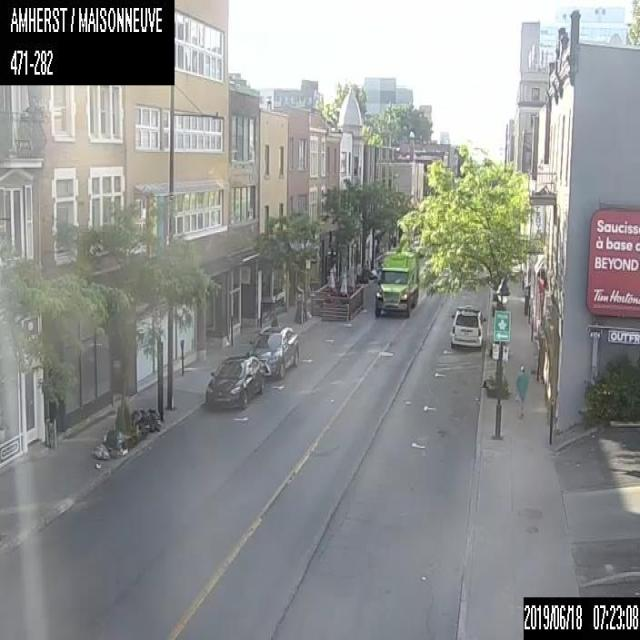pedestrian: (514, 359, 528, 417)
vehicle: (202, 354, 264, 409), (374, 248, 418, 317), (245, 324, 298, 379), (450, 304, 484, 348)
